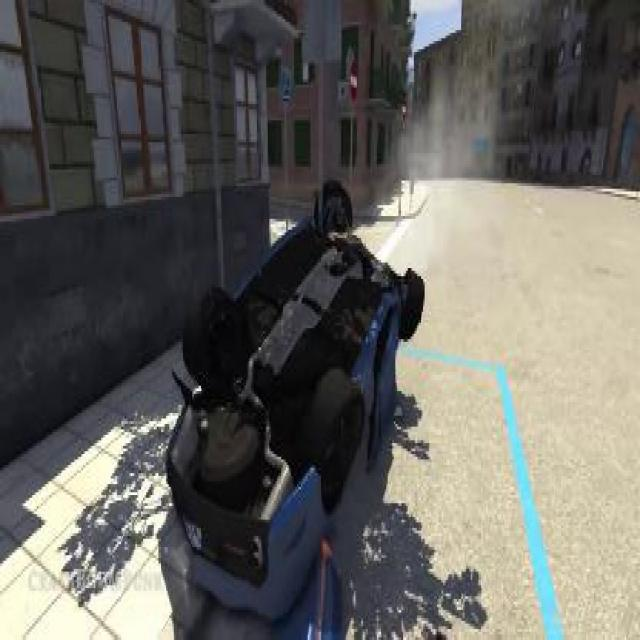accident: (156, 175, 427, 618)
